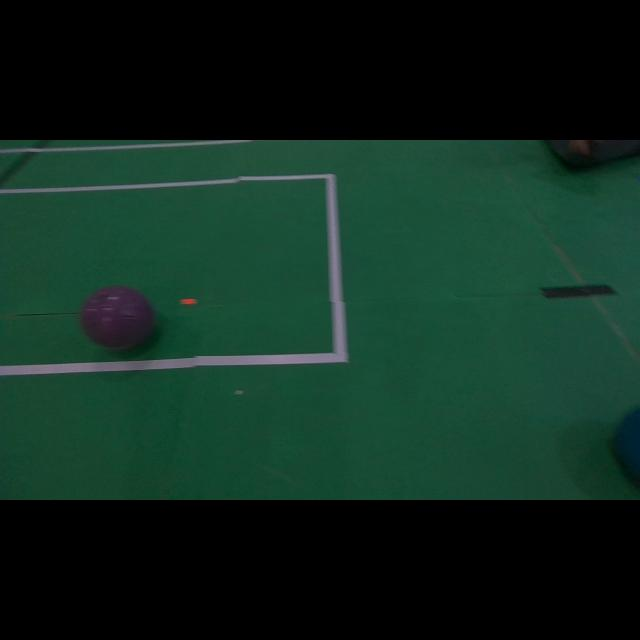P: (81, 286, 154, 349)
